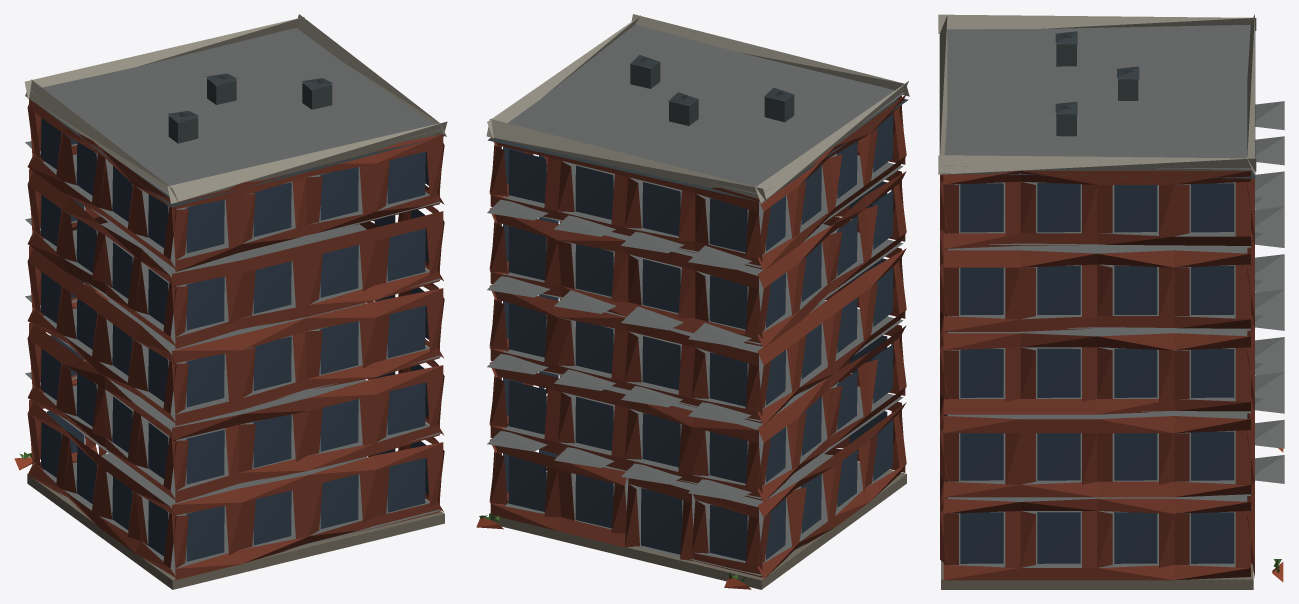
File: house_apartment.glb
The picture shows the model from 3 angles, left to right: view 1: azimuth 30°, elevation 25°; view 2: azimuth 150°, elevation 25°; view 3: azimuth 270°, elevation 25°; orthographic projection. The views are drawn at different scales.
Size of the model in its own units: 7.3 by 10.49 by 7.36.
